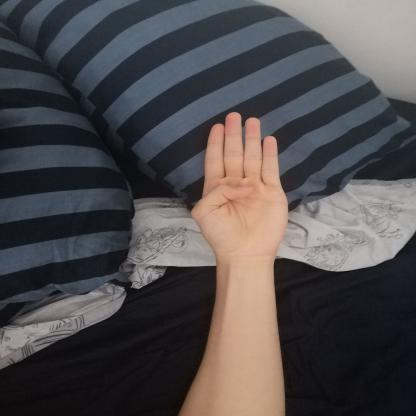KAAF: (178, 102, 306, 271)
